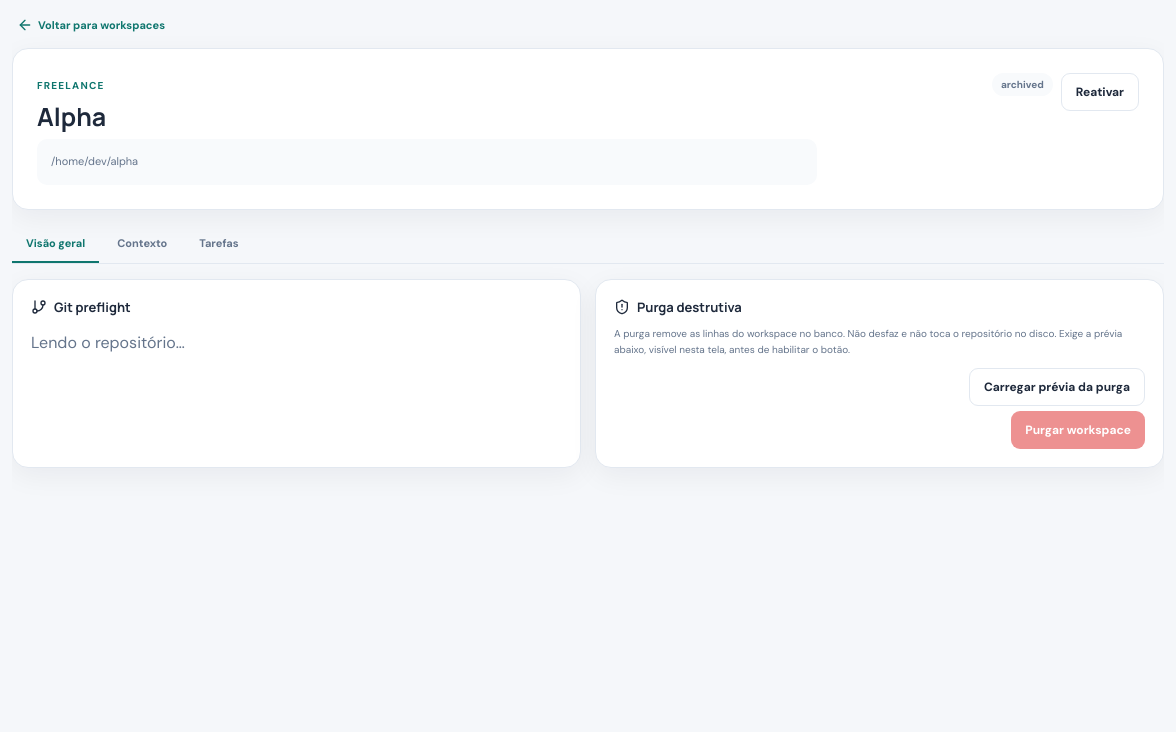
Test: WorkspaceDetail — abas › troca para o painel de tarefas ao clicar na aba
The width and height of the screenshot is (1176, 732).
Click the tab "Tarefas": (219, 244) [185,225,253,263]
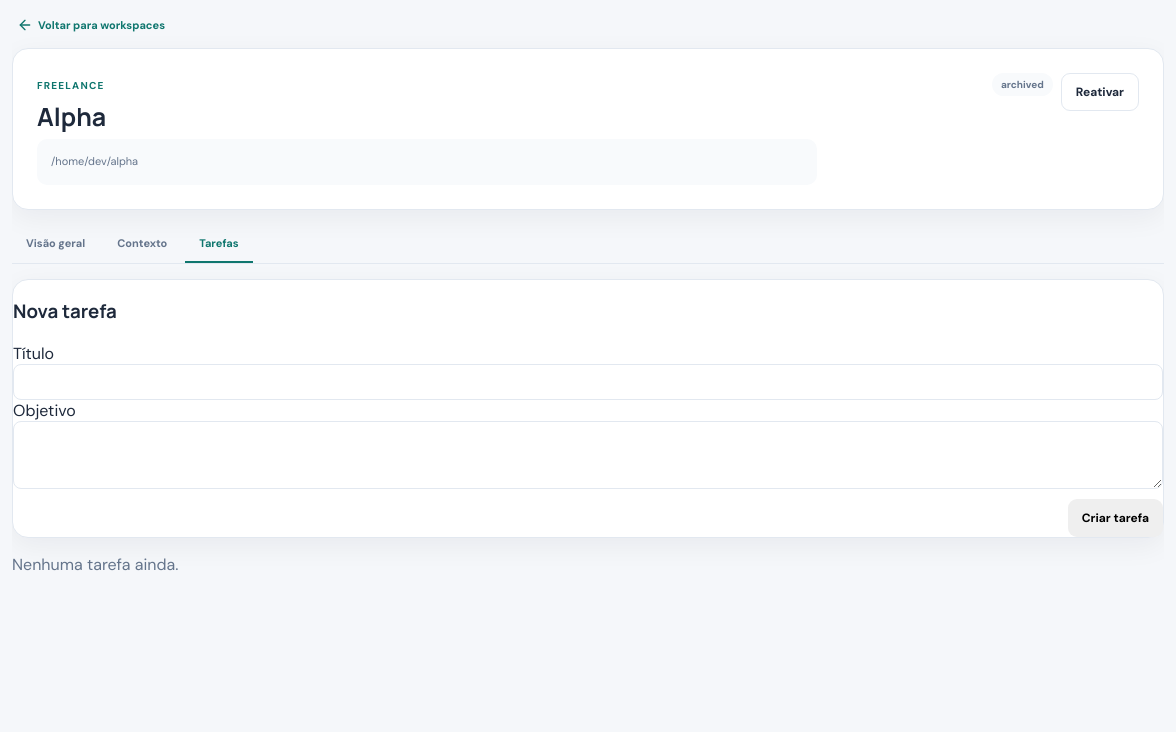
Result: the heading "Nova tarefa" is shown at [13,298,117,324]
